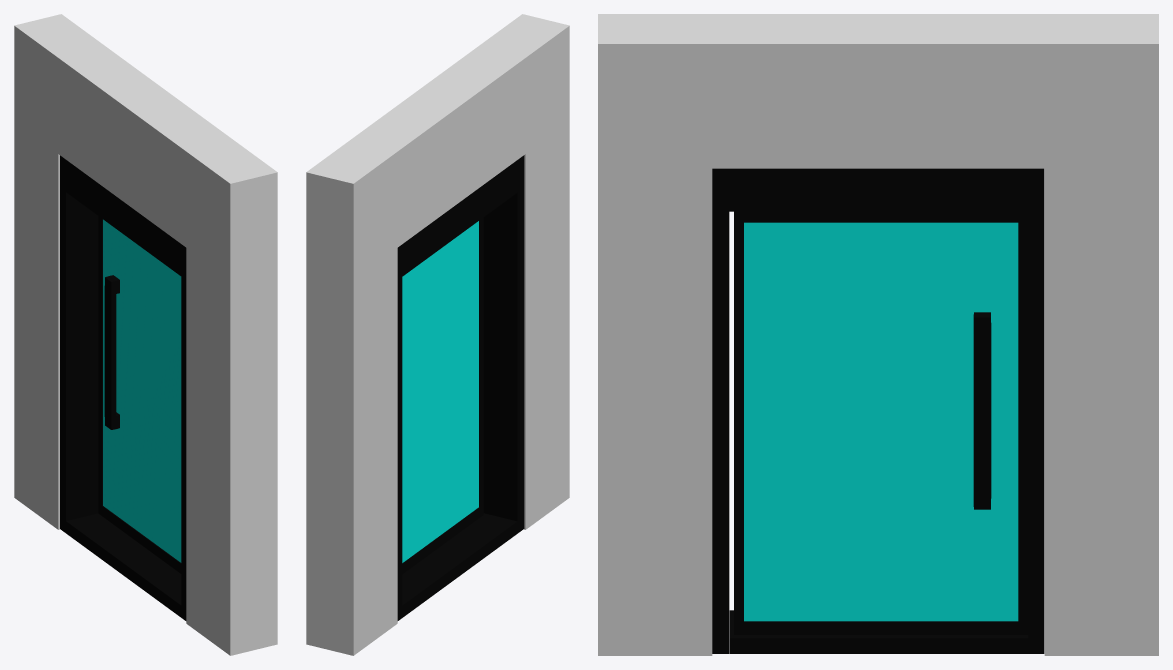
The model's file is door-wallfbx.fbx.
The picture shows the model from 3 angles, left to right: view 1: azimuth 30°, elevation 25°; view 2: azimuth 150°, elevation 25°; view 3: azimuth 270°, elevation 25°; orthographic projection. The views are drawn at different scales.
Visible parts, largest first — view 1: Cube.001, Cube.002; view 2: Cube.001, Cube.002; view 3: Cube.001, Cube.002.
Part boxes in pixels (left/top/right/bottom): Cube.001: left=14, top=14, right=277, bottom=655; Cube.002: left=98, top=216, right=181, bottom=573; Cube.001: left=306, top=14, right=569, bottom=655; Cube.002: left=402, top=217, right=483, bottom=573; Cube.001: left=598, top=14, right=1158, bottom=655; Cube.002: left=734, top=211, right=1028, bottom=634.
Bounding box in the file's own units: 25.93 × 241 × 200.
